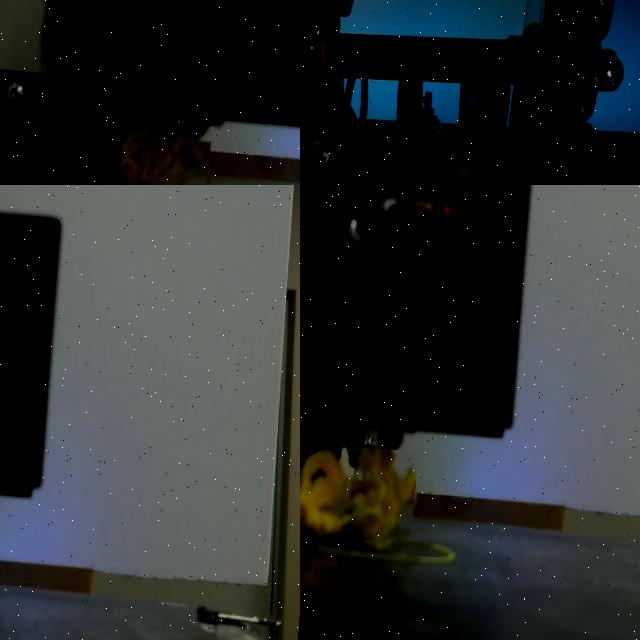spaghetti: (300, 447, 416, 542), (119, 123, 209, 185)
